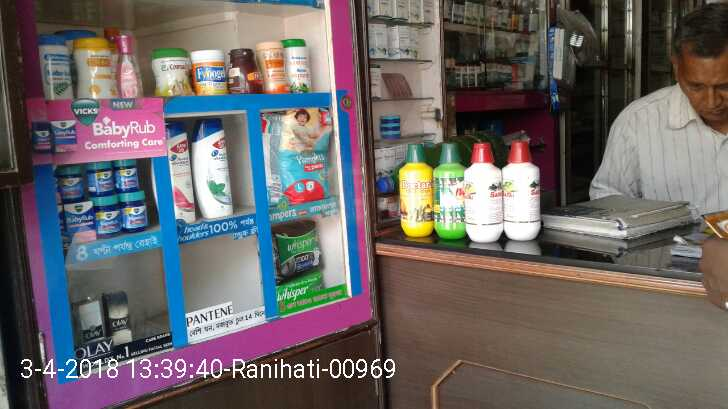vicks: (54, 162, 150, 231)
